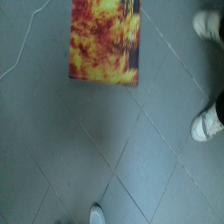fire-poster: (69, 0, 141, 86)
